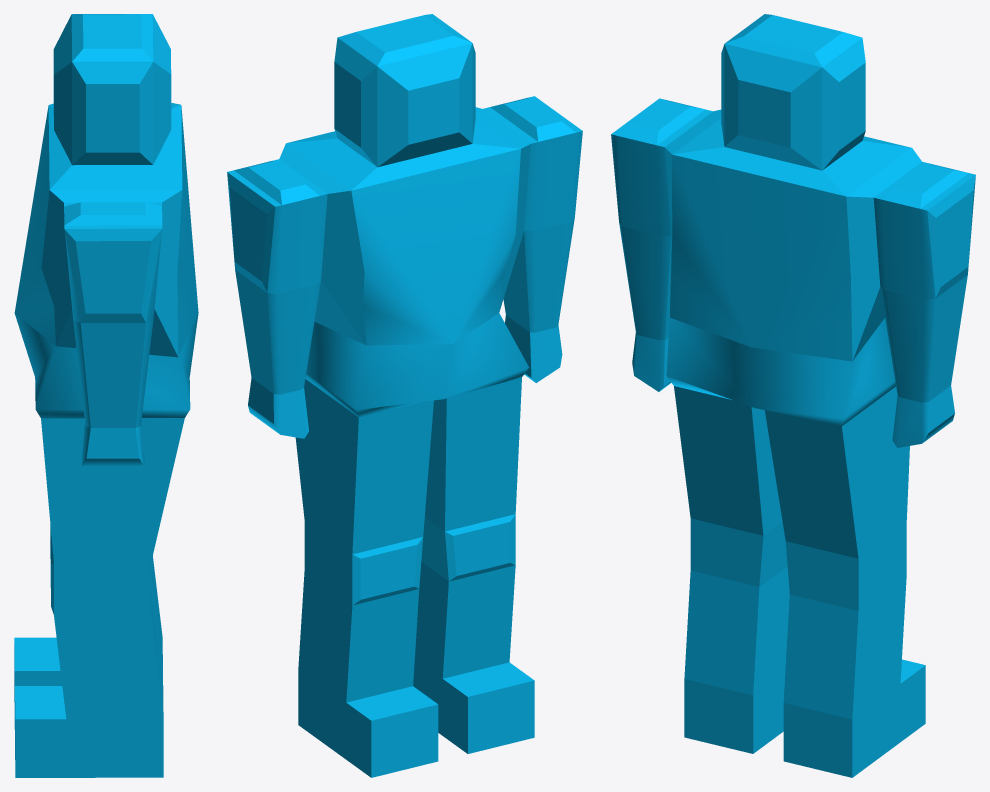
3 views of the same model, side by side, from view 1: azimuth 30°, elevation 25°; view 2: azimuth 150°, elevation 25°; view 3: azimuth 270°, elevation 25° (orthographic). The views are drawn at different scales.
Parts seen in each view (by area): view 1: pCube1; view 2: pCube1; view 3: pCube1.
Boxes of the visible parts, box(x1,y1,x2,y2) form: pCube1: box(14, 14, 198, 777); pCube1: box(227, 14, 582, 777); pCube1: box(611, 14, 975, 777).
Bounding box in the file's own units: 5.9 × 17.26 × 8.1.
